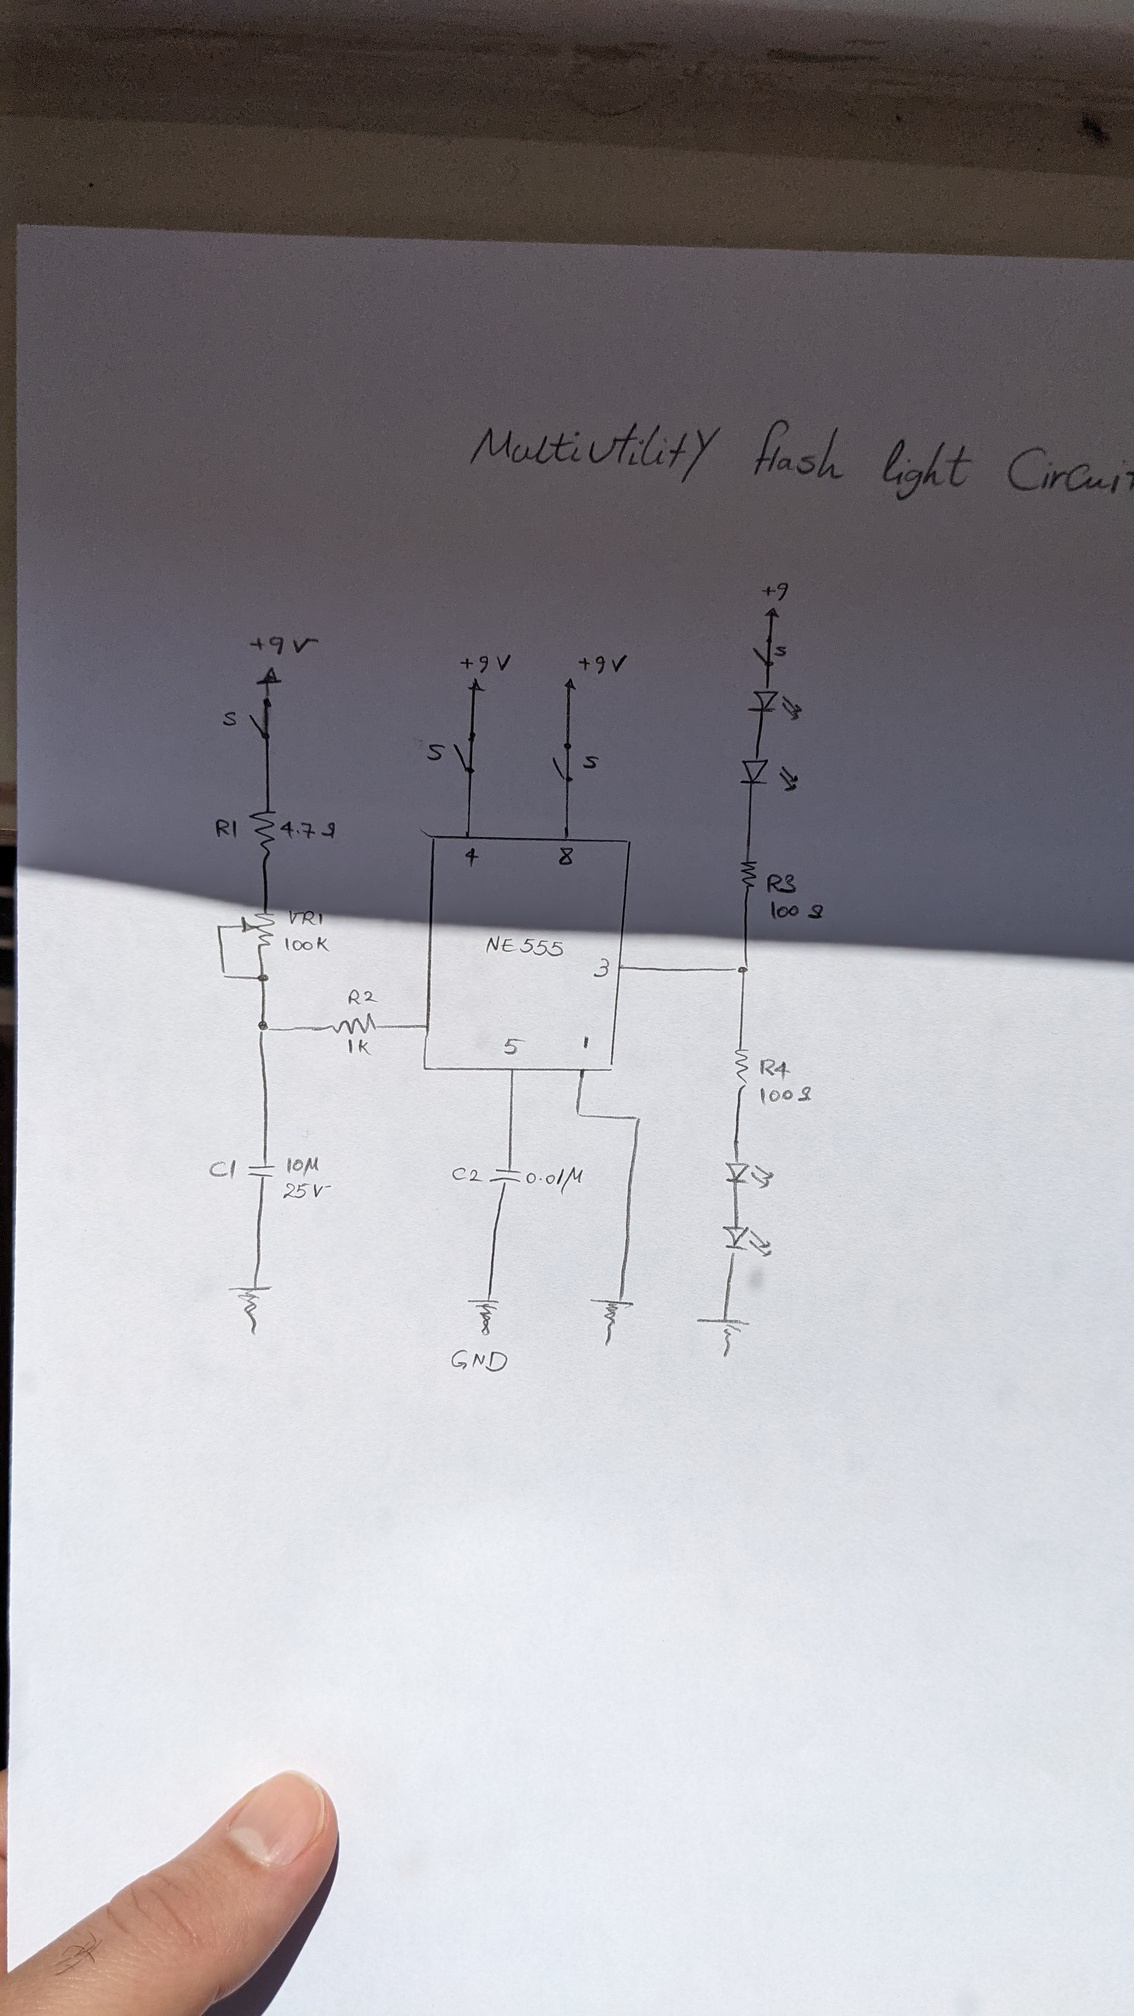capacitor.unpolarized: (487, 1164, 523, 1189), (244, 1160, 280, 1182)
diode.light_emitting: (738, 755, 802, 795), (745, 684, 804, 724), (719, 1223, 774, 1261), (723, 1159, 775, 1191)
gnd: (588, 1295, 638, 1349), (695, 1313, 752, 1360), (227, 1282, 274, 1338), (467, 1293, 503, 1338)
integrated_cricuit.ne555: (417, 825, 636, 1077)
junction: (732, 961, 752, 976), (256, 1019, 271, 1034), (255, 972, 271, 984), (573, 1108, 584, 1122), (631, 1115, 644, 1124), (219, 969, 228, 980), (215, 922, 224, 932)
resistor: (245, 807, 278, 861), (325, 1009, 381, 1037), (732, 1045, 753, 1094), (738, 857, 760, 894)
resistor.adjustable: (238, 908, 277, 953)
switch: (245, 695, 276, 742), (450, 731, 480, 775), (550, 741, 575, 785), (750, 640, 773, 669)
text: (467, 415, 1134, 505), (485, 935, 565, 960), (525, 1164, 584, 1198), (450, 1346, 511, 1376), (246, 634, 323, 656), (280, 820, 339, 843), (575, 651, 629, 676), (458, 652, 514, 676), (757, 1084, 816, 1106), (768, 899, 825, 921), (282, 1181, 335, 1200), (282, 935, 332, 954), (285, 1153, 321, 1178), (757, 1056, 791, 1081), (764, 871, 798, 896), (287, 908, 325, 929), (450, 1163, 485, 1185), (206, 1158, 238, 1181), (759, 580, 791, 604), (213, 816, 240, 840), (346, 987, 379, 1007), (346, 1037, 372, 1056), (503, 1036, 526, 1056), (557, 845, 577, 868), (425, 741, 446, 764), (593, 954, 611, 980), (462, 845, 480, 870), (580, 1032, 595, 1056), (220, 709, 240, 728), (582, 753, 600, 771), (773, 644, 788, 659)
vss: (253, 665, 287, 688), (467, 677, 487, 695), (762, 605, 784, 620), (561, 676, 579, 691)
